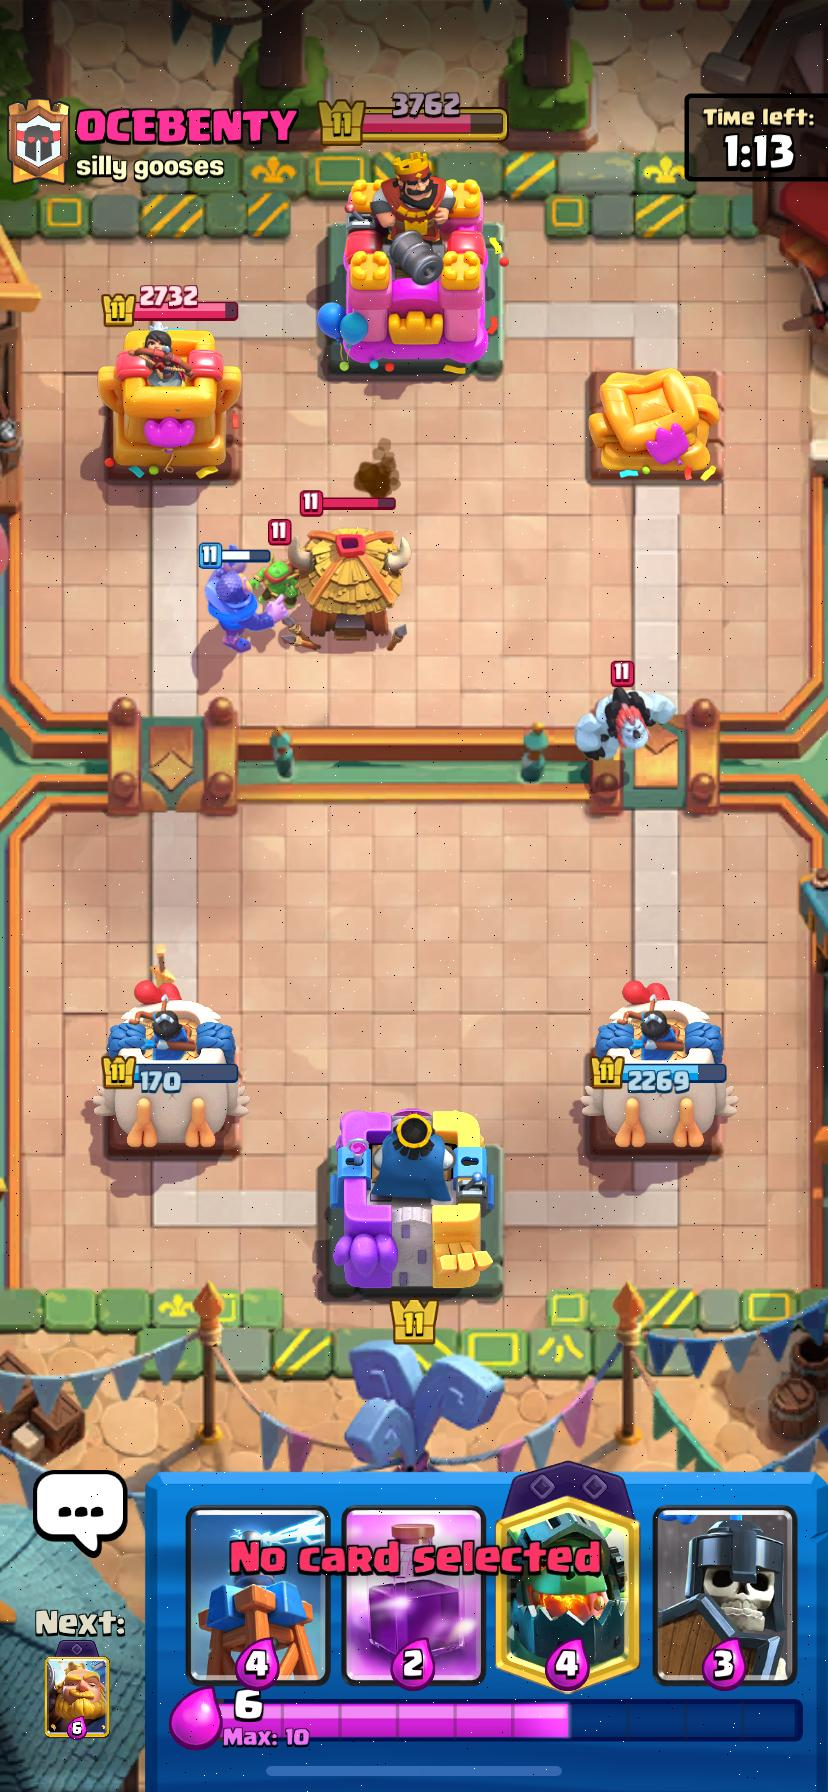EGoblinHut: (290, 529, 411, 634)
EIceGolem: (575, 687, 675, 759)
EKingTower: (318, 163, 500, 377)
ESpearGoblin: (258, 560, 298, 605)
EnemyPrincessTower: (98, 327, 241, 479)
OKnight: (206, 561, 266, 651)
OwnKingTower: (328, 1109, 502, 1295)
OwnPrincessTower: (583, 981, 735, 1152), (93, 995, 247, 1150)
TowerDown: (589, 369, 719, 481)
